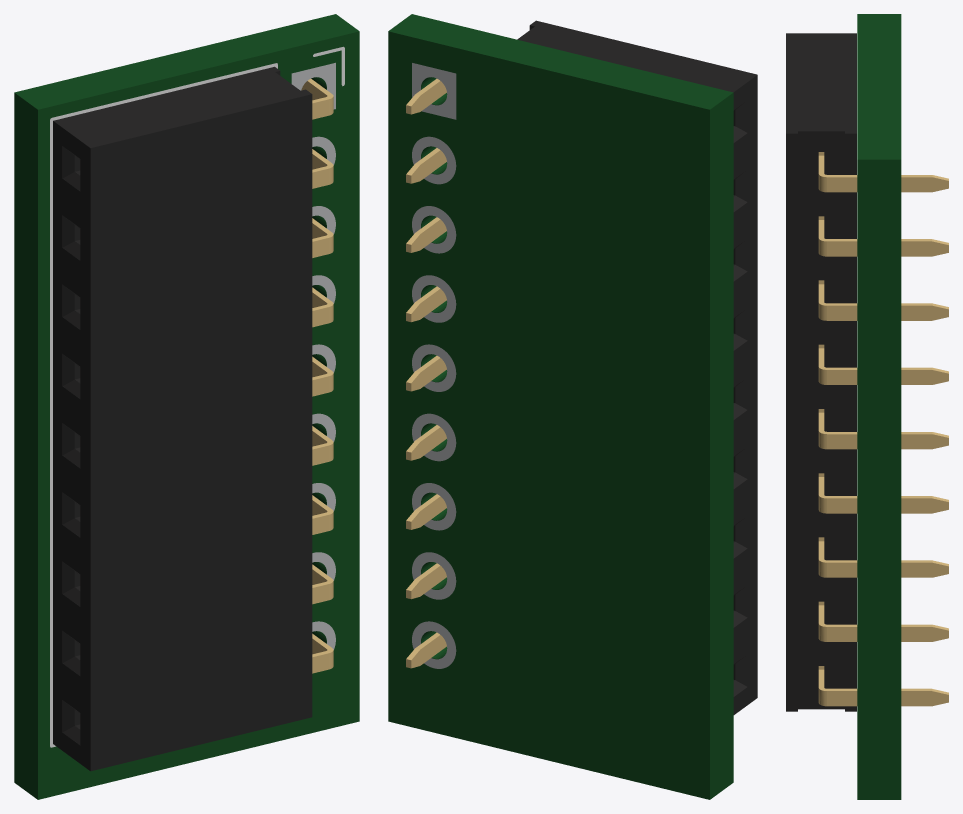
Rendered from pin.dae.
3 views of the same model, side by side, from view 1: azimuth 30°, elevation 25°; view 2: azimuth 150°, elevation 25°; view 3: azimuth 270°, elevation 25° (orthographic). The views are drawn at different scales.
Parts seen in each view (by area): view 1: TXFM_4, _ncl1_327, _ncl1_330, TXFM_8, TXFM_6, TXFM_330, TXFM_332; view 2: _ncl1_327, _ncl1_330, TXFM_8, TXFM_331, TXFM_6; view 3: _ncl1_330, TXFM_11, TXFM_6, TXFM_7, TXFM_9, TXFM_169, TXFM_177, TXFM_197, TXFM_173, TXFM_185, TXFM_189, TXFM_193 (+11 smaller).
Part boxes in pixels (x1,y1,x2,y2): TXFM_4: (90, 94, 312, 771); _ncl1_327: (38, 31, 359, 799); _ncl1_330: (14, 14, 358, 799); TXFM_8: (53, 121, 90, 770); TXFM_6: (53, 66, 311, 148); TXFM_330: (291, 62, 335, 649); TXFM_332: (50, 46, 344, 747); _ncl1_327: (388, 31, 709, 799); _ncl1_330: (388, 14, 733, 799); TXFM_8: (733, 75, 757, 714); TXFM_331: (412, 63, 456, 668); TXFM_6: (517, 20, 757, 92); _ncl1_330: (857, 14, 901, 799); TXFM_11: (798, 131, 844, 709); TXFM_6: (786, 33, 856, 133); TXFM_7: (786, 133, 797, 711); TXFM_9: (845, 133, 856, 711); TXFM_169: (827, 305, 948, 320); TXFM_177: (827, 241, 948, 256); TXFM_197: (827, 691, 948, 706); TXFM_173: (827, 177, 948, 192); TXFM_185: (827, 562, 948, 577); TXFM_189: (827, 498, 948, 513); TXFM_193: (827, 434, 948, 449).
Size of the model in its own units: 0.0124 by 0.0253 by 0.00584.
